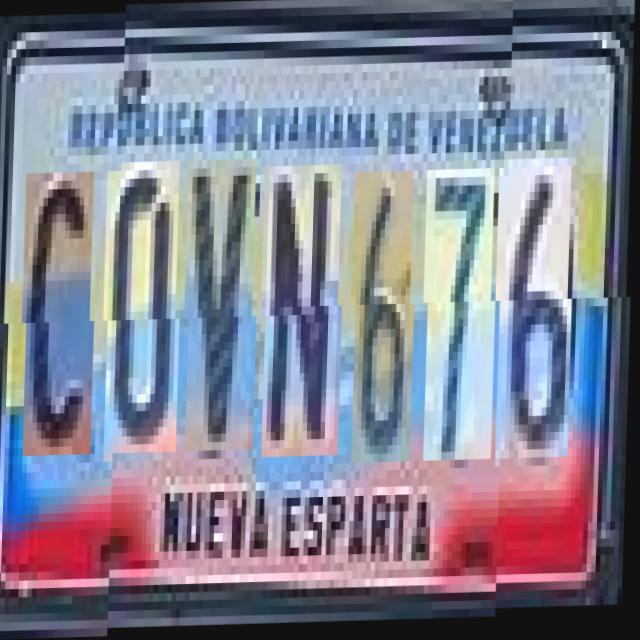0: (106, 162, 185, 454)
6: (498, 170, 578, 470), (354, 174, 420, 466)
7: (426, 171, 501, 464)
C: (26, 164, 100, 448)
N: (264, 166, 347, 459)
V: (188, 160, 262, 452)
